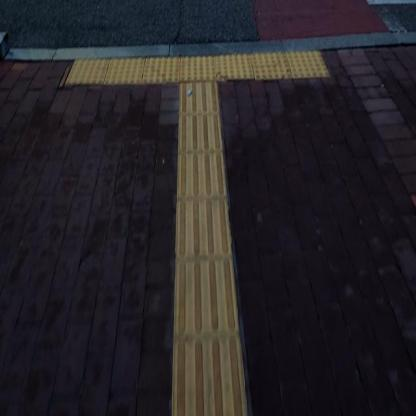podotacti: (171, 83, 254, 415), (62, 48, 330, 94)
